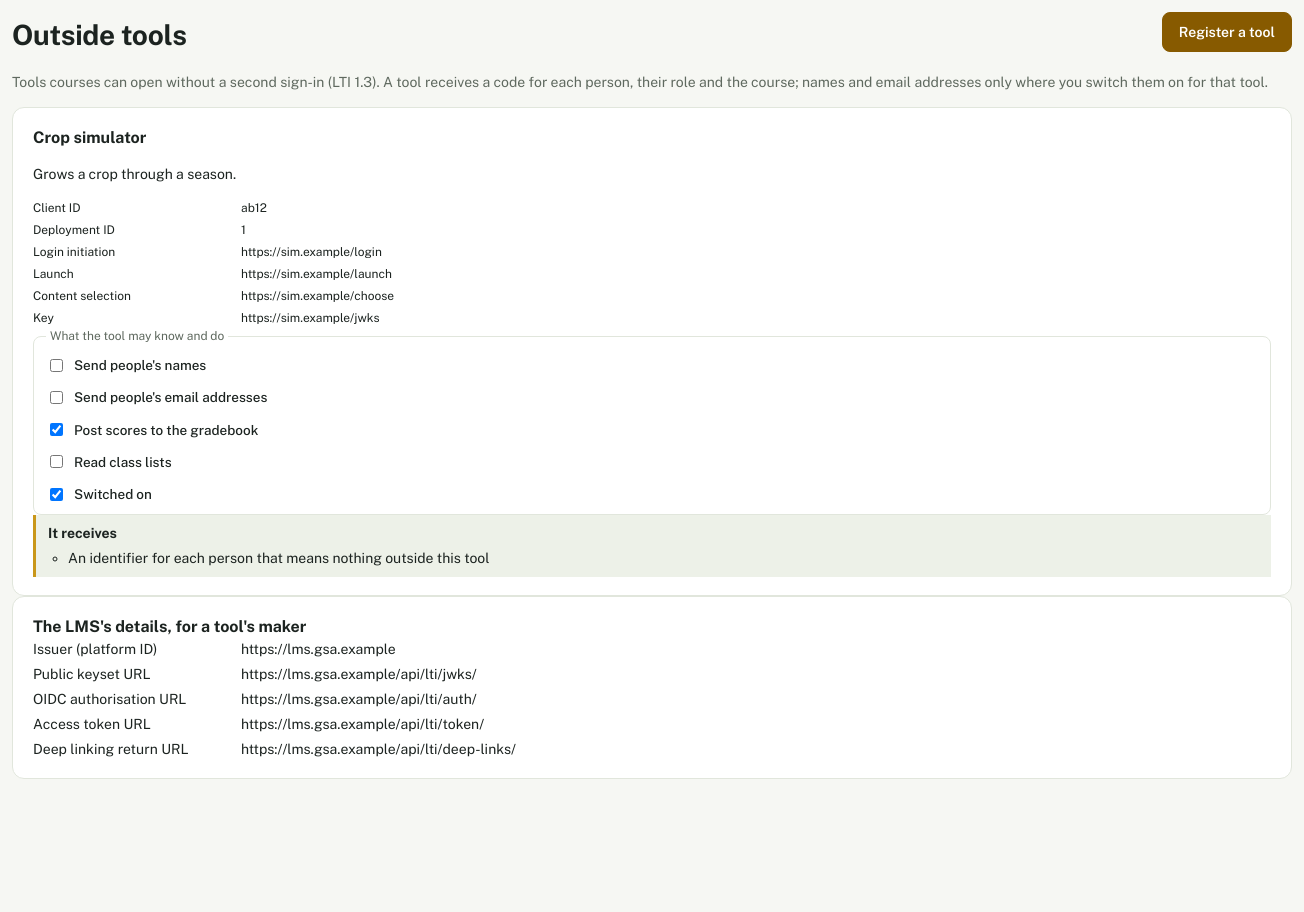
Test: outside tools for course administrators (item 6.07) › lists the tools with what each receives and the LMS's details for makers, and switches names on
Expected: the list item "Crop simulator" shows "ab12", [241,201,267,215]
Expected: the list item "Crop simulator" shows "https://sim.example/choose", [241,289,394,303]
What coordinates should you click on to do the following:
click the checkbox labelled "Send people's names"
I would click on:
 (56, 365)
Its box is [50,359,63,372].
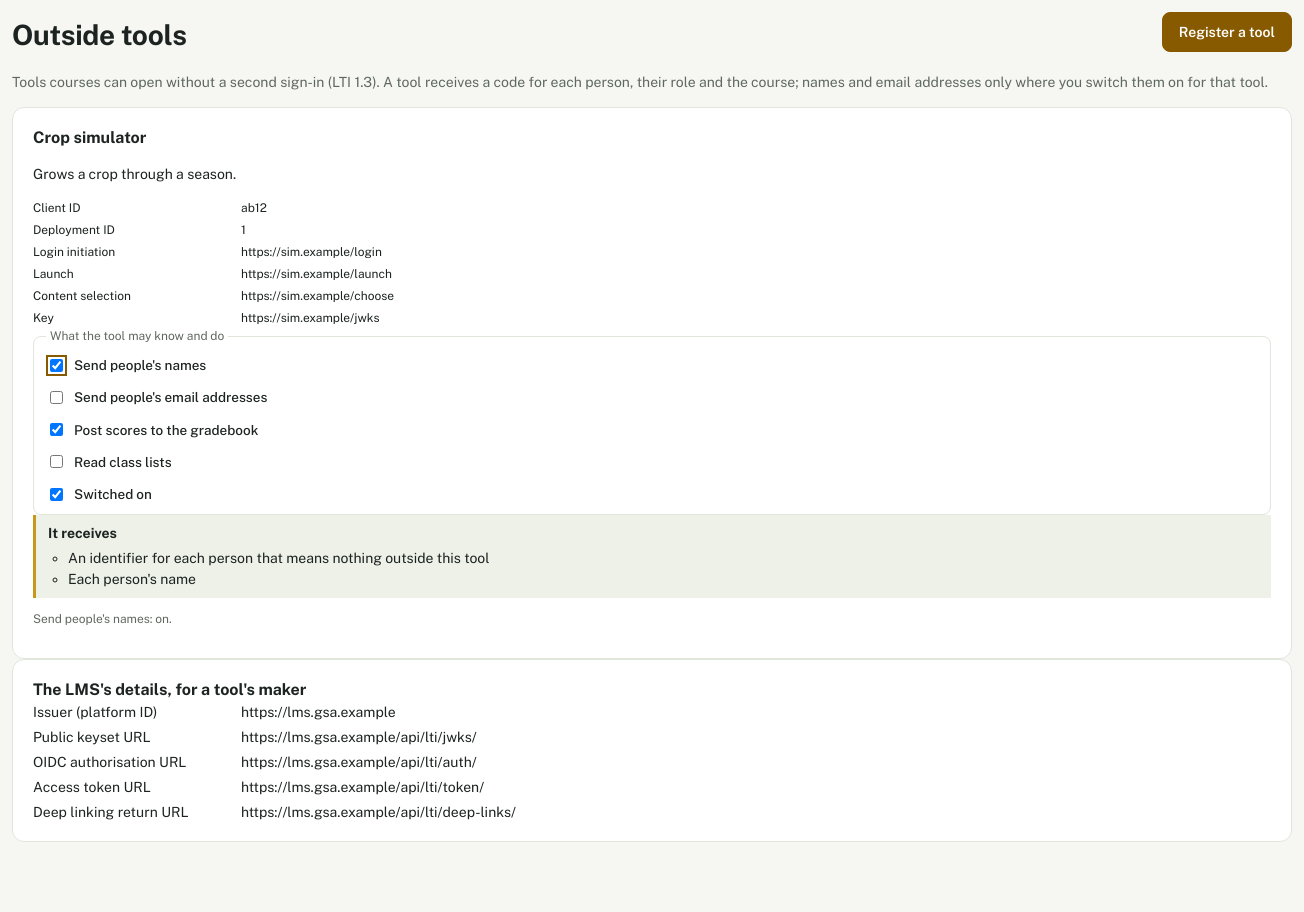
Expected: the list item "Each person's name" is shown, [68,571,196,587]
Expected: the message reads "Send people's names: on.", [33,612,172,626]
What coordinates should you click on to do the following:
click the checkbox labelled "Read class lists"
I would click on:
 (56, 462)
Its box is [50,455,63,468].
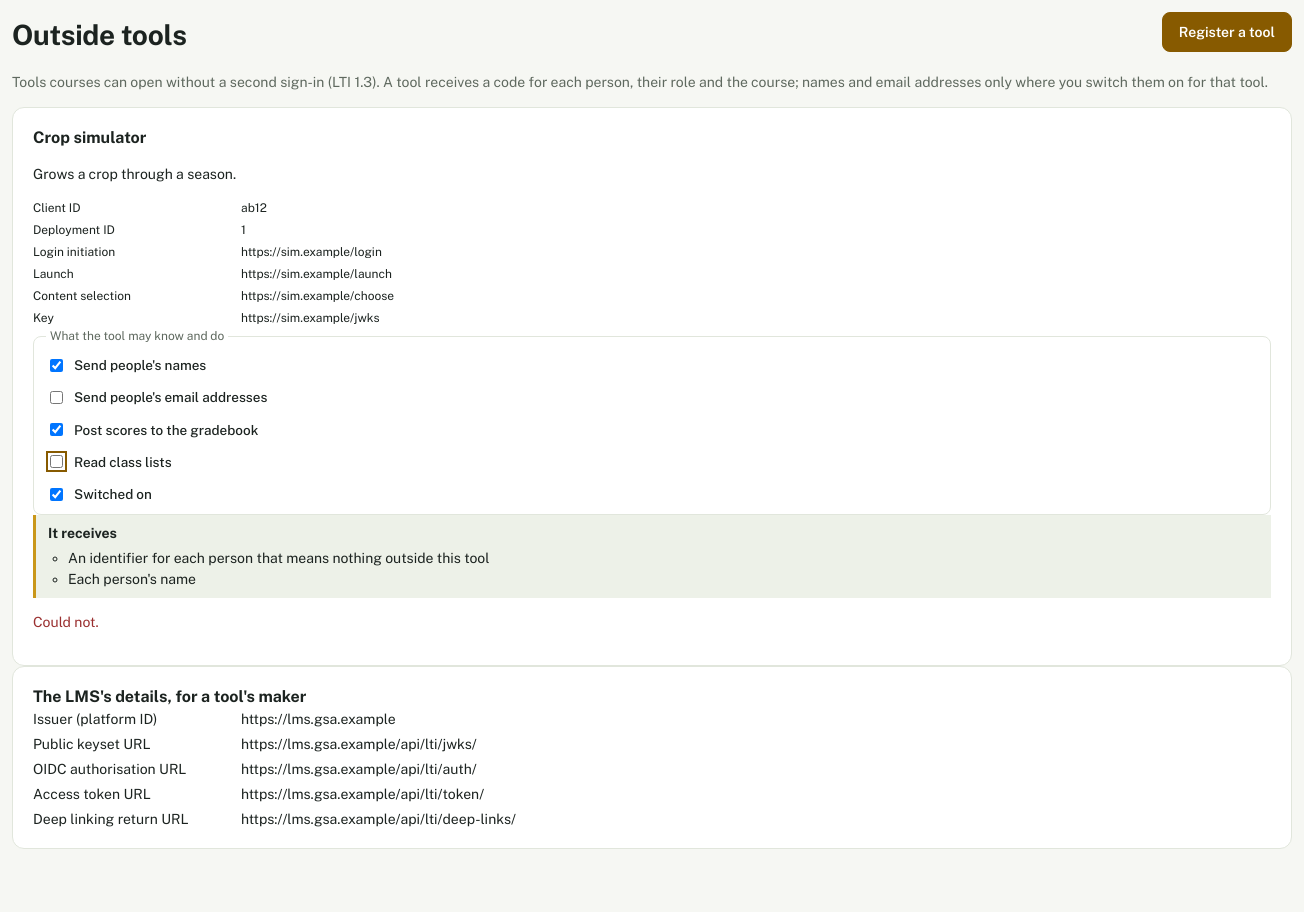
Expected: the message reads "Could not.", [33,614,99,630]
